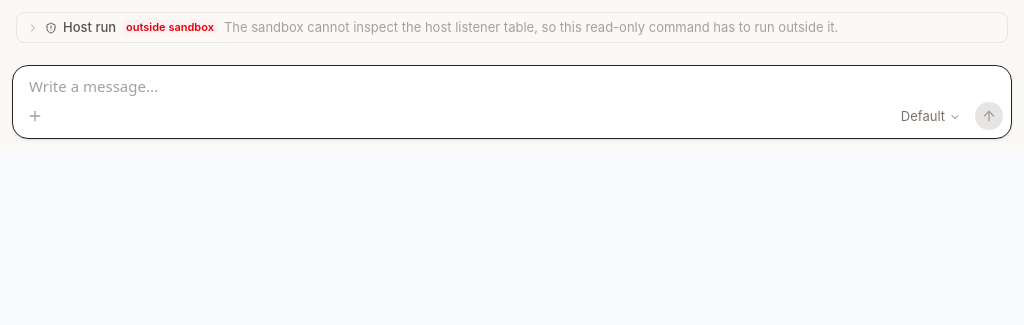
it: an expanded tool card survives its run becoming a step group › keeps a settled host-run explanation in the expanded body
Expected: the text box is enabled, top-left (13, 66), bottom-right (1011, 100)
Expected: the text "Why" is not shown
Click the button that starts with "Host run". click: (433, 28)
box: top-left (27, 19), bottom-right (838, 36)
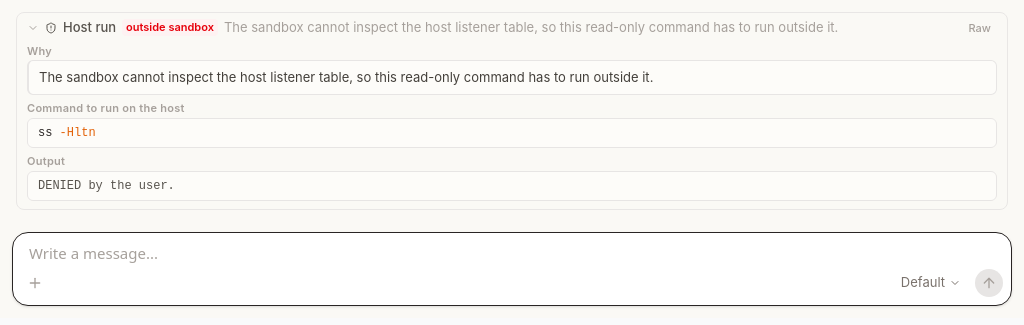
Now the text "Why" is shown, box top-left (27, 44), bottom-right (52, 58)
Now the text "The sandbox cannot inspect the host listener table, so this read-only command has to run outside it." below "Why" is shown, box top-left (39, 69), bottom-right (653, 85)
